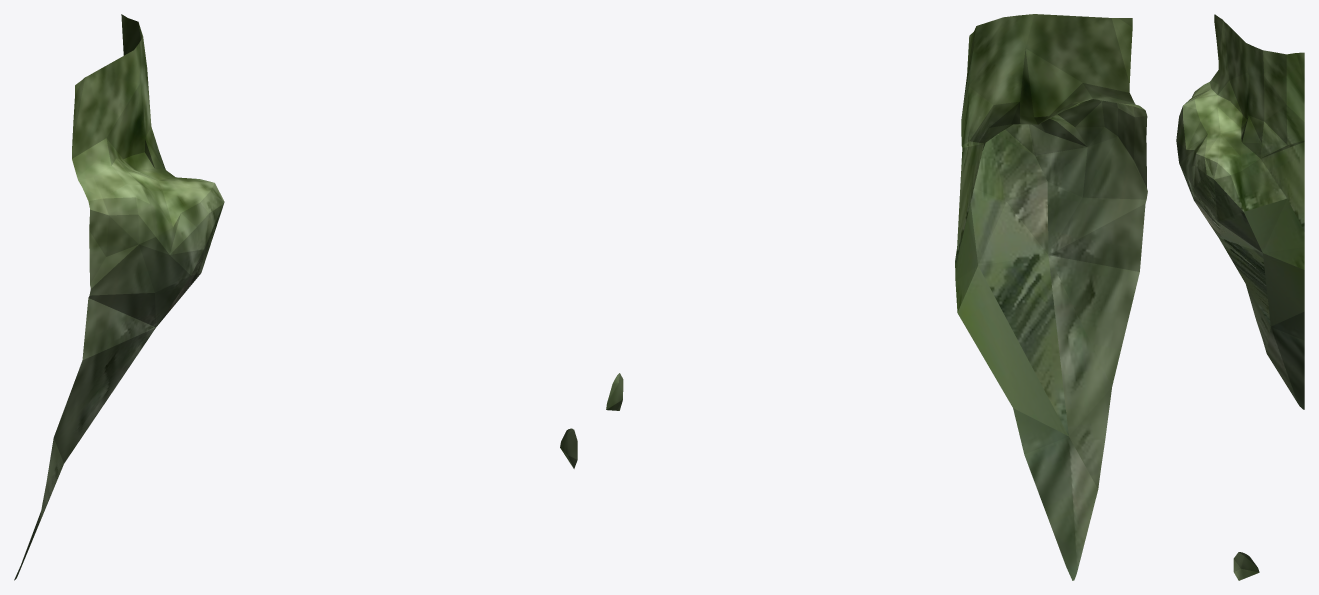
The picture shows the model from 3 angles, left to right: view 1: azimuth 30°, elevation 25°; view 2: azimuth 150°, elevation 25°; view 3: azimuth 270°, elevation 25°; orthographic projection. The views are drawn at different scales.
Bounding box in the file's own units: 2.95 × 2.95 × 0.8674.
1 material, 1 textured.
